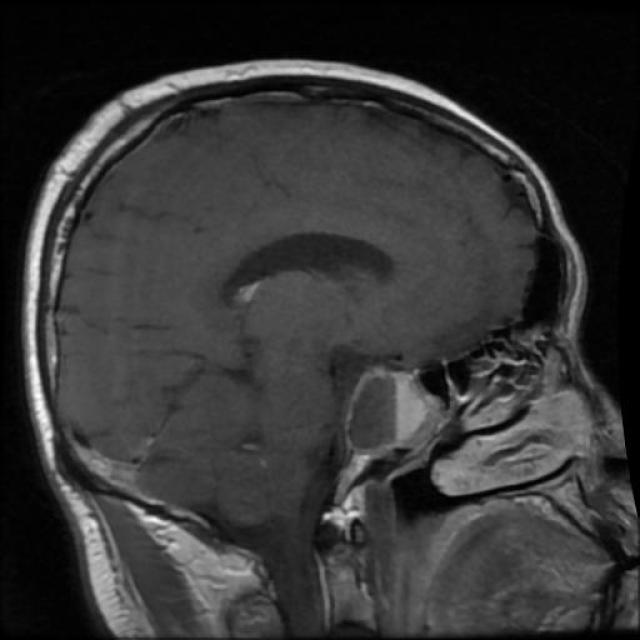no_tumor: (346, 372, 425, 446)
